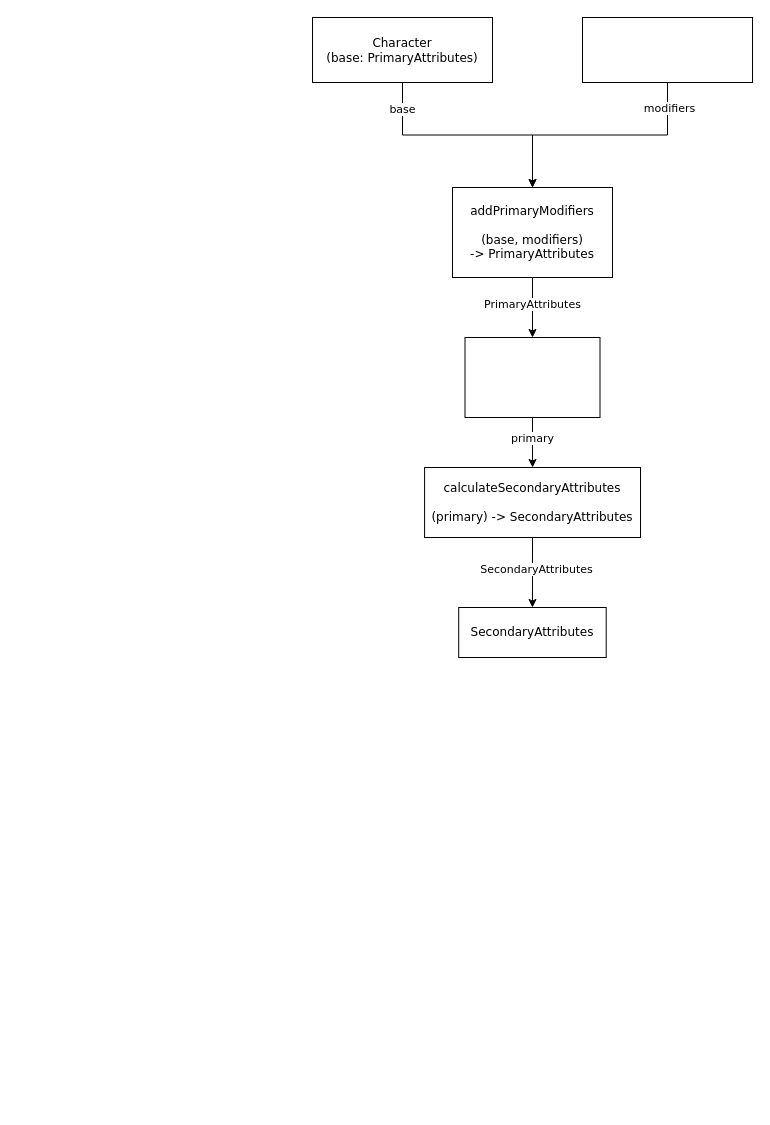
Image size: 770x1125. Some labels were removed from this diagram. Each missing label, with the centre of its shape:
Equipments (modifiers): (x=667, y=49)
PrimaryAttributes (final values after equipments): (x=532, y=377)
